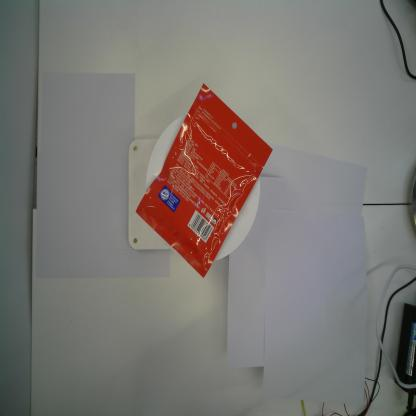Dried Fruit: (135, 80, 274, 278)
